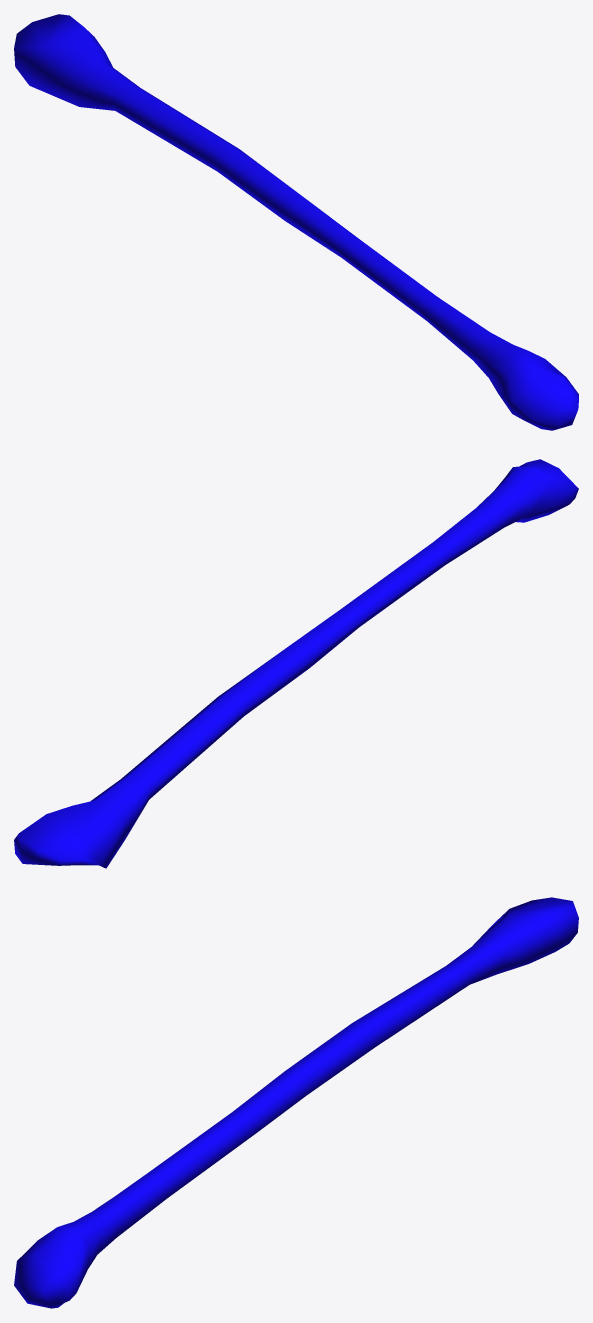
Rendered from SM_L_Fibula.FBX.
3 renders of one model, top to bottom at view 1: azimuth 30°, elevation 25°; view 2: azimuth 150°, elevation 25°; view 3: azimuth 330°, elevation 25°, orthographic.
Visible parts, largest first — view 1: L_Fibula; view 2: L_Fibula; view 3: L_Fibula.
Boxes of the visible parts, <box> form: L_Fibula: <box>14,14,578,430</box>; L_Fibula: <box>14,459,578,868</box>; L_Fibula: <box>14,897,578,1308</box>.
Size of the model in its own units: 3.47 by 2.61 by 42.82.
